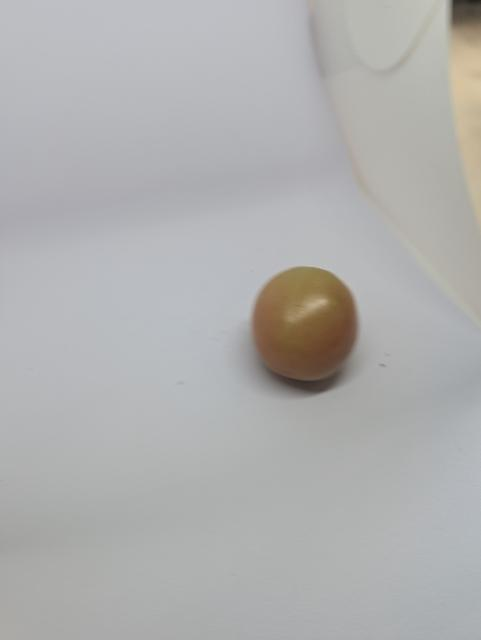turning: (250, 263, 366, 386)
